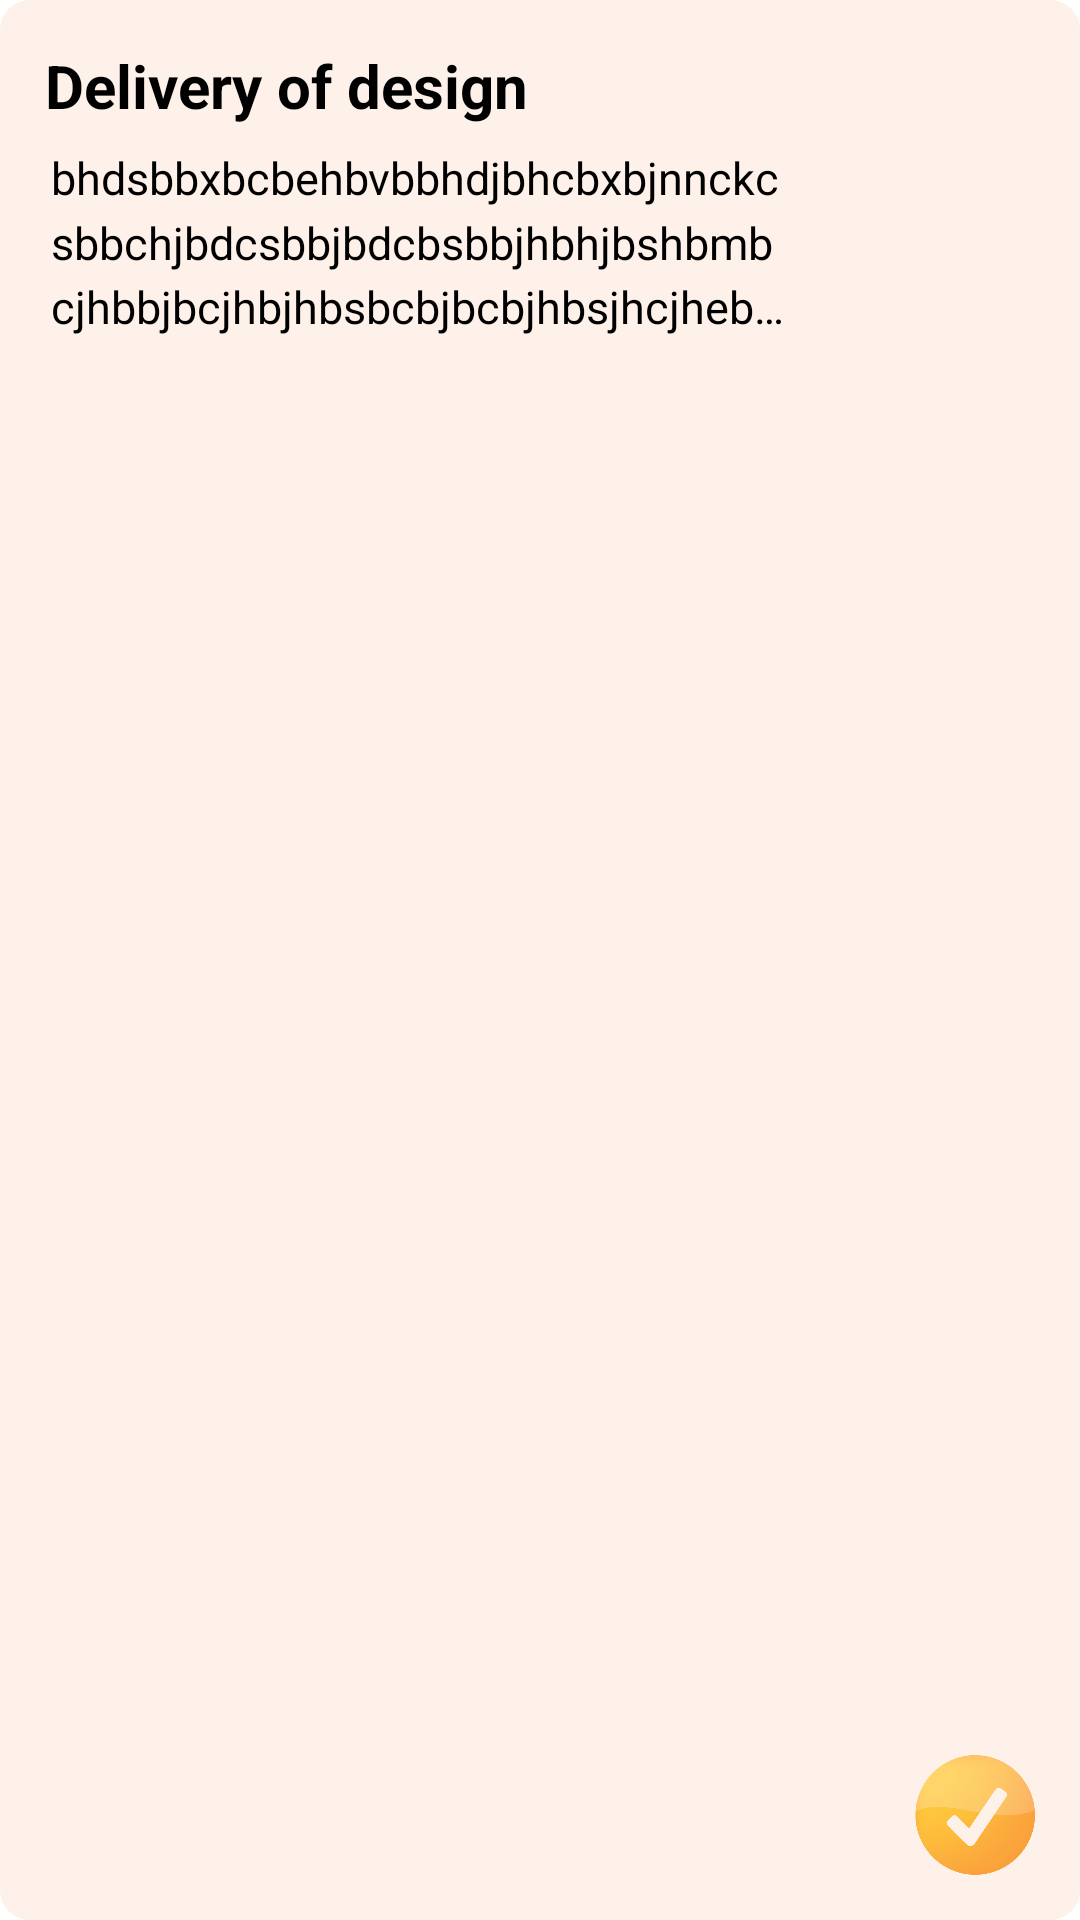

Icon bounding boxes for this 1080px x 1920px phone screenshot, format detection(x1, y1, x2, y2):
tick: detection(915, 1755, 1035, 1875)
